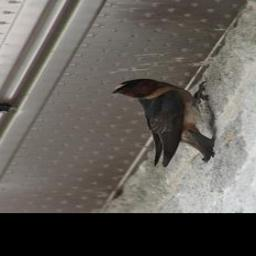Swallow: (112, 78, 220, 167)
